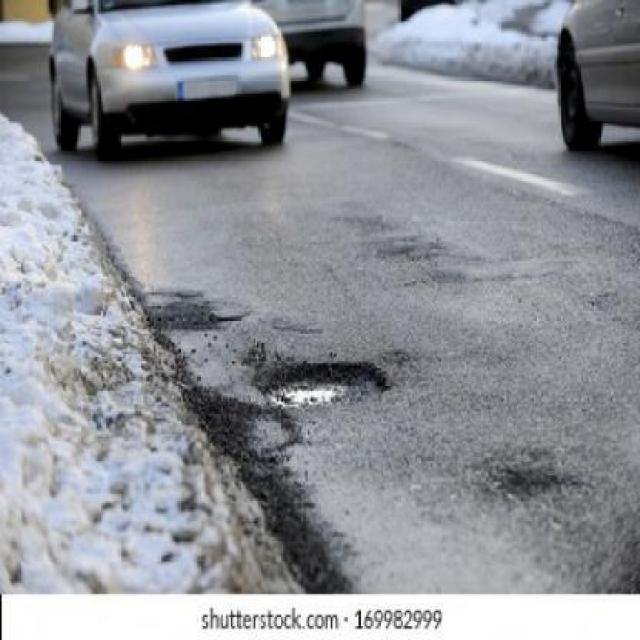Pothole: (253, 356, 390, 407)
